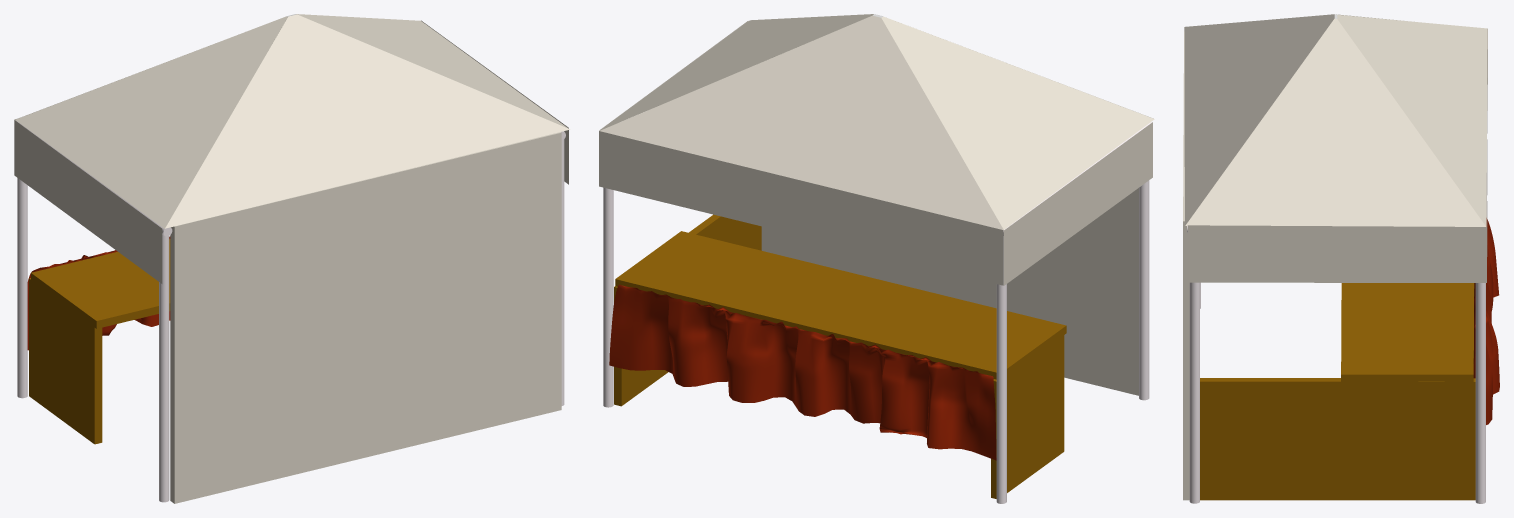
Rendered from BoothModel.fbx.
3 renders of one model, left to right at view 1: azimuth 30°, elevation 25°; view 2: azimuth 150°, elevation 25°; view 3: azimuth 270°, elevation 25°, orthographic.
Visible parts, largest first — view 1: Back panel, Plane.005, Plane.006, Side panel 2, Plane.002, Table top, Plane.007, Tent pole 2, Tent pole 4, Tent pole 1, Cloth; view 2: Plane.004, Cloth, Table top, Plane.006, Plane.001, Back panel, Plane.002, Side panel 2, Plane.007, Side panel 1, Tent pole 4, Tent pole 2 (+1 smaller); view 3: Side panel 1, Plane.007, Plane.003, Plane.005, Plane.004, Table top, Tent pole 1, Tent pole 3.001, Back panel, Cloth.
Boxes of the visible parts, left/top/right/bottom form: Back panel: left=170, top=132, right=561, bottom=503; Plane.005: left=165, top=14, right=570, bottom=228; Plane.006: left=15, top=16, right=287, bottom=228; Side panel 2: left=29, top=278, right=102, bottom=444; Plane.002: left=14, top=120, right=162, bottom=283; Table top: left=31, top=239, right=170, bottom=328; Plane.007: left=296, top=14, right=567, bottom=128; Tent pole 2: left=159, top=234, right=169, bottom=502; Tent pole 4: left=17, top=178, right=27, bottom=398; Tent pole 1: left=561, top=131, right=564, bottom=405; Cloth: left=27, top=236, right=170, bottom=350; Plane.004: left=600, top=15, right=1003, bottom=229; Cloth: left=609, top=284, right=996, bottom=460; Table top: left=615, top=231, right=1066, bottom=379; Plane.006: left=881, top=16, right=1154, bottom=229; Plane.001: left=599, top=131, right=1003, bottom=285; Back panel: left=761, top=188, right=1138, bottom=395; Plane.002: left=1004, top=122, right=1152, bottom=285; Side panel 2: left=991, top=335, right=1064, bottom=498; Plane.007: left=600, top=14, right=873, bottom=130; Side panel 1: left=614, top=214, right=761, bottom=406; Tent pole 4: left=996, top=236, right=1006, bottom=503; Tent pole 2: left=1139, top=180, right=1149, bottom=400; Side panel 1: left=1200, top=378, right=1475, bottom=500; Plane.007: left=1185, top=18, right=1485, bottom=226; Plane.003: left=1187, top=225, right=1486, bottom=282; Plane.005: left=1184, top=14, right=1334, bottom=225; Plane.004: left=1337, top=15, right=1487, bottom=226; Table top: left=1341, top=283, right=1474, bottom=381; Tent pole 1: left=1189, top=282, right=1199, bottom=503; Tent pole 3.001: left=1475, top=283, right=1485, bottom=503; Back panel: left=1183, top=31, right=1189, bottom=500; Cloth: left=1473, top=218, right=1499, bottom=424.
Size of the model in its own units: 1530 by 1389 by 1026.
